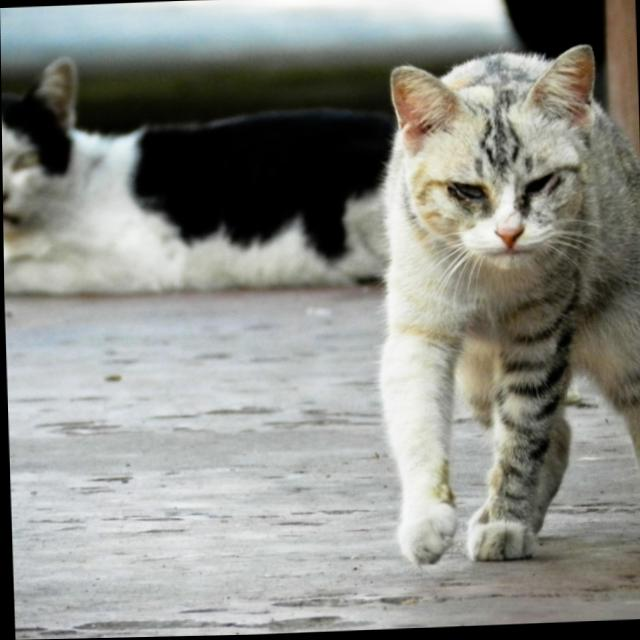animals: (365, 46, 640, 567), (1, 44, 395, 295)
